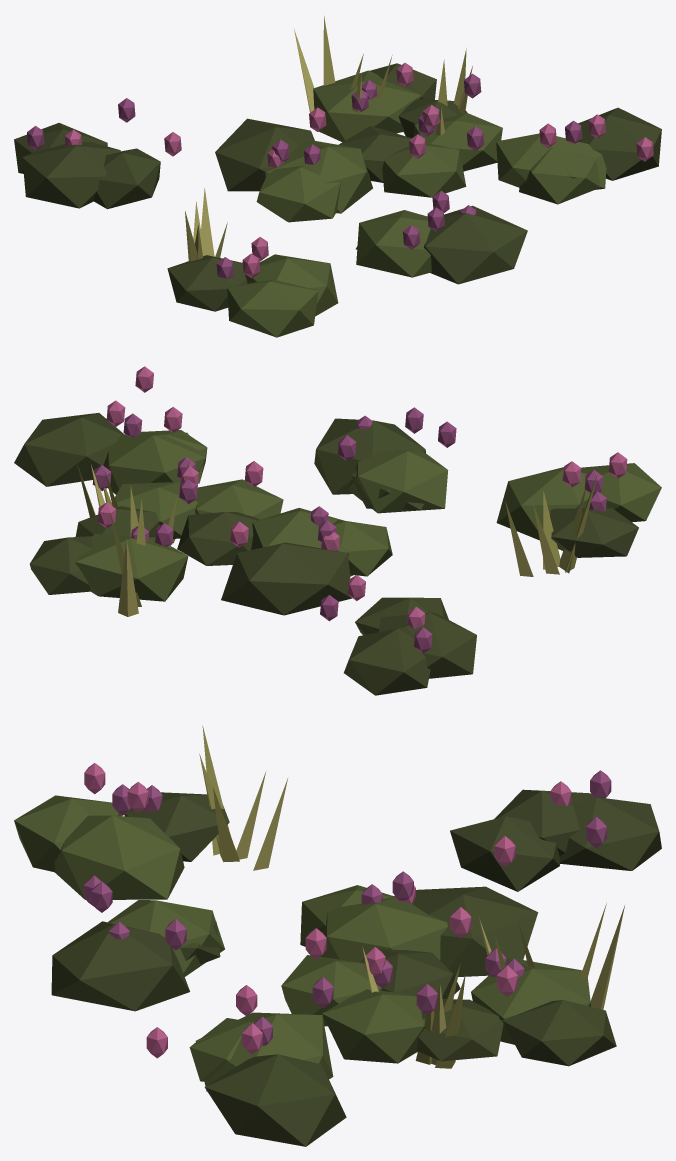
Rendered from forest_patch_heath.glb.
3 views of the same model, one above another, from view 1: azimuth 30°, elevation 25°; view 2: azimuth 150°, elevation 25°; view 3: azimuth 270°, elevation 25° (orthographic). The views are drawn at different scales.
Visible parts, largest first — view 1: forest_patch_heath; view 2: forest_patch_heath; view 3: forest_patch_heath.
Part boxes in pixels (x1=…): forest_patch_heath: x1=14, y1=16, x2=661, y2=337; forest_patch_heath: x1=14, y1=366, x2=661, y2=695; forest_patch_heath: x1=14, y1=725, x2=661, y2=1146.
Size of the model in its own units: 2.79 by 0.4855 by 2.34.
